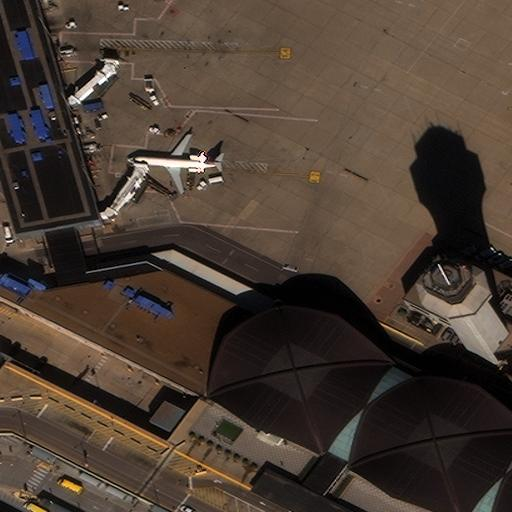Medium Civil Transport: (127, 133, 222, 194)
